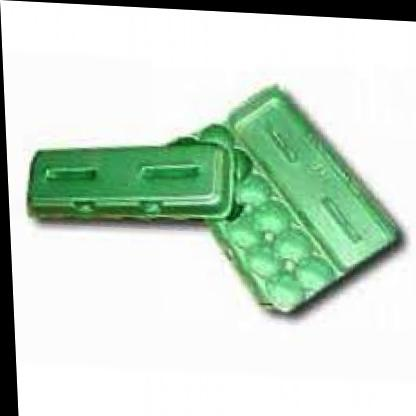Paper: (1, 44, 408, 342)
